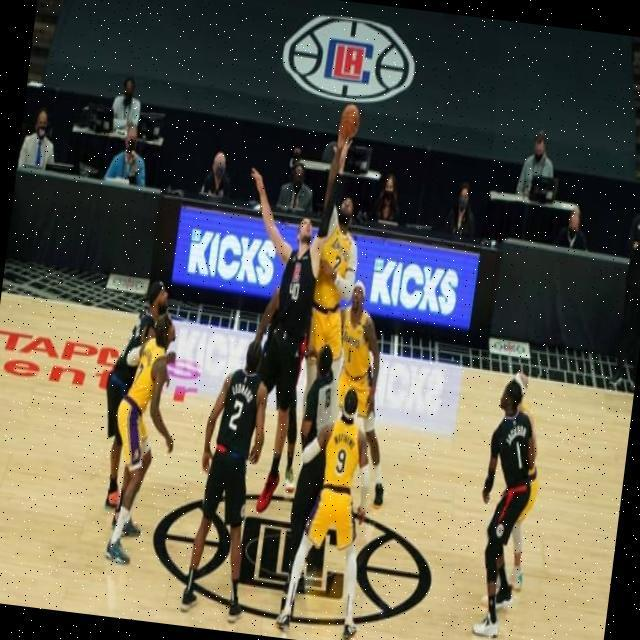ball: (337, 100, 362, 140)
